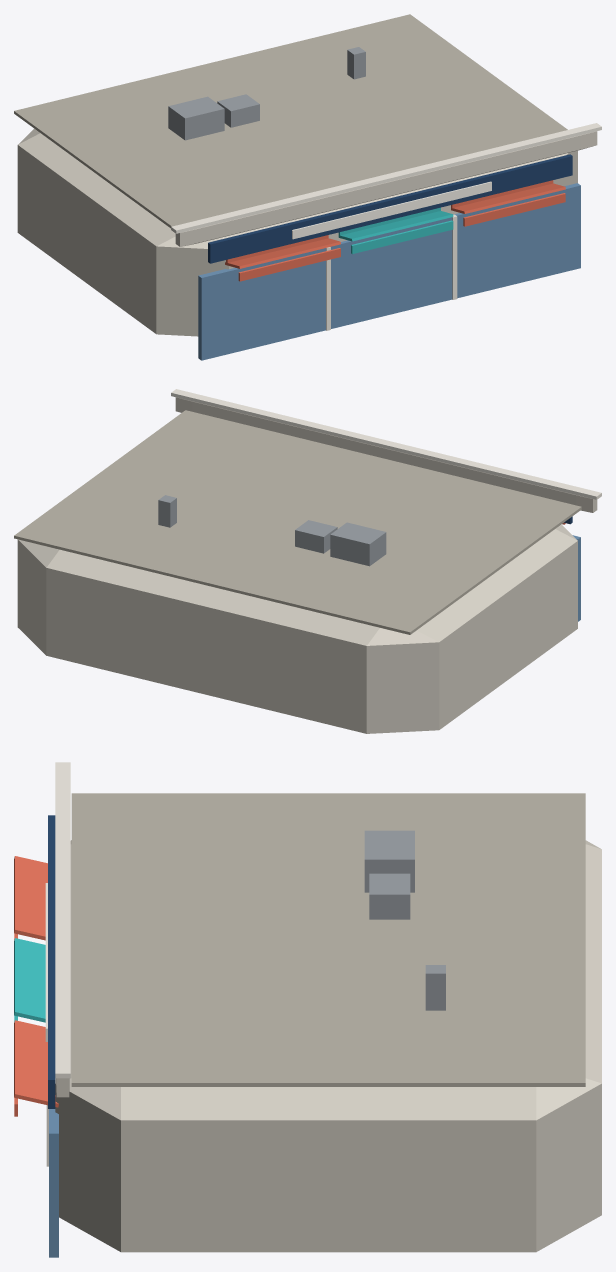
File: shop_w16_f1_stripe.glb
3 views of the same model, one above another, from view 1: azimuth 30°, elevation 25°; view 2: azimuth 150°, elevation 25°; view 3: azimuth 270°, elevation 25° (orthographic). The views are drawn at different scales.
Visible parts, largest first — view 1: roofslab, shopglass, walls, parapet, fascia, pcap, fasciatx, hvac, valance.001, valance, valance.002, awn (+5 smaller); view 2: roofslab, walls, parapet, pcap, hvac, hvac2, pipe; view 3: roofslab, walls, pcap, awn.002, awn, awn.001, hvac, fascia, hvac2, shopglass, pipe.
Boxes of the visible parts, box(x1,y1,x2,y2) form: roofslab: box(14, 14, 567, 228); shopglass: box(198, 183, 580, 360); walls: box(17, 128, 577, 336); parapet: box(175, 131, 597, 246); fascia: box(208, 154, 572, 263); pcap: box(171, 123, 601, 233); fasciatx: box(292, 181, 491, 239); hvac: box(168, 96, 224, 140); valance.001: box(351, 220, 453, 254); valance: box(238, 248, 340, 281); valance.002: box(463, 193, 565, 226); awn: box(225, 238, 340, 268); roofslab: box(14, 410, 581, 634); walls: box(17, 524, 577, 733); parapet: box(175, 397, 597, 512); pcap: box(171, 389, 601, 499); hvac: box(330, 522, 386, 566); hvac2: box(295, 520, 337, 553); pipe: box(158, 495, 176, 527); roofslab: box(71, 793, 585, 1086); walls: box(55, 840, 601, 1252); pcap: box(55, 762, 70, 1078); awn.002: box(14, 1020, 58, 1107); awn: box(14, 856, 47, 940); awn.001: box(14, 938, 45, 1022); hvac: box(364, 830, 414, 892); fascia: box(48, 815, 55, 1108); hvac2: box(369, 873, 410, 919); shopglass: box(49, 1109, 58, 1257); pipe: box(425, 965, 445, 1010).
Size of the model in its own units: 16.16 by 5.3 by 12.91.
